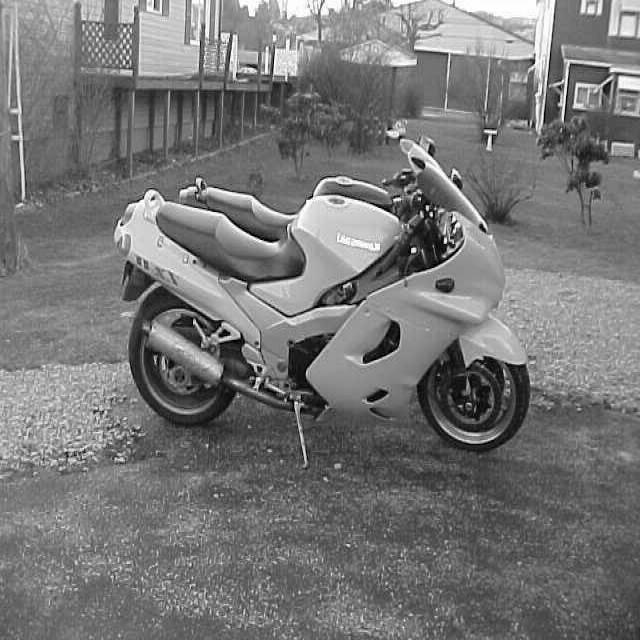Motorcycle: (114, 140, 532, 463)
